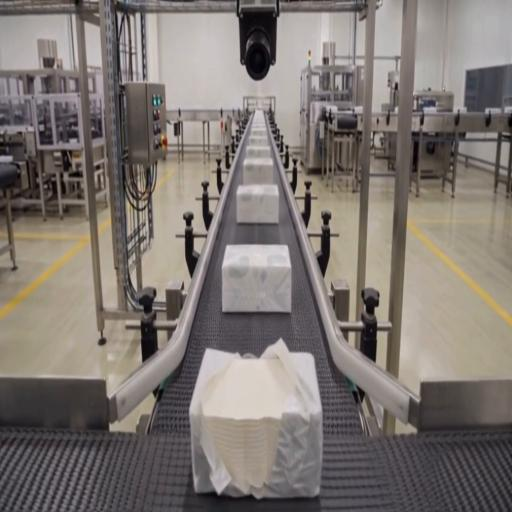defective: (190, 344, 321, 498)
good: (222, 245, 292, 314), (235, 184, 281, 226), (242, 156, 275, 187), (244, 142, 270, 162), (246, 132, 270, 150), (248, 111, 269, 128)
